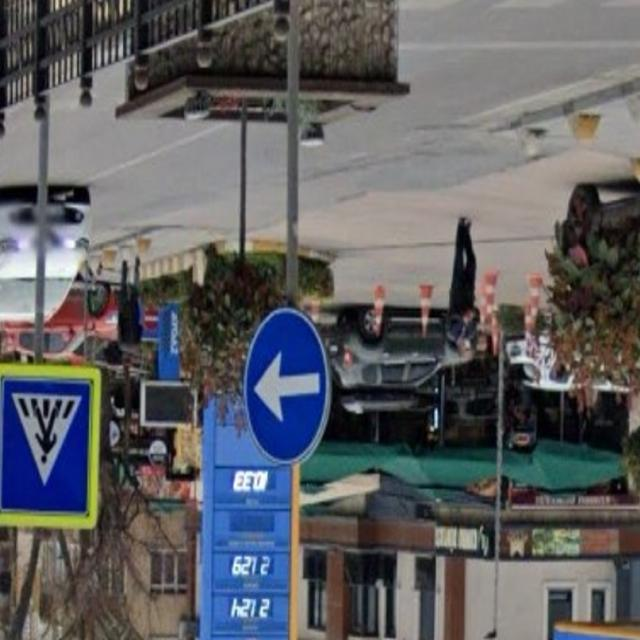Turn Left: (249, 311, 329, 461)
